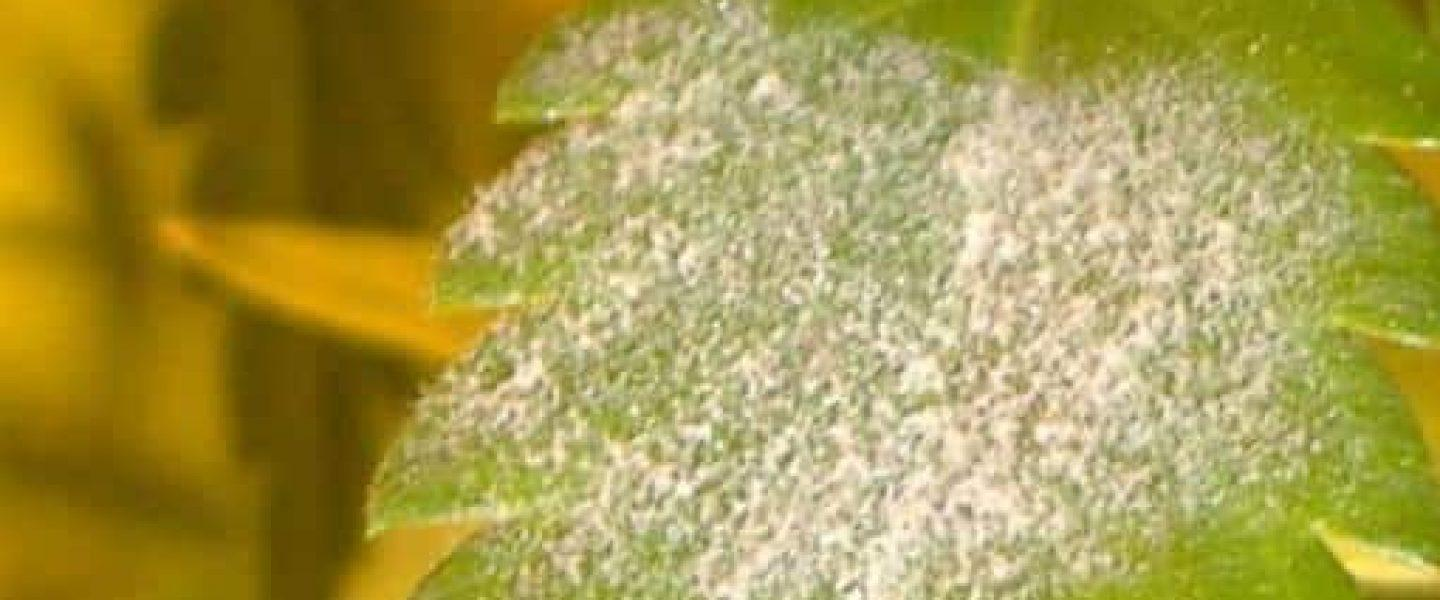root_rot: (417, 26, 1366, 600)
